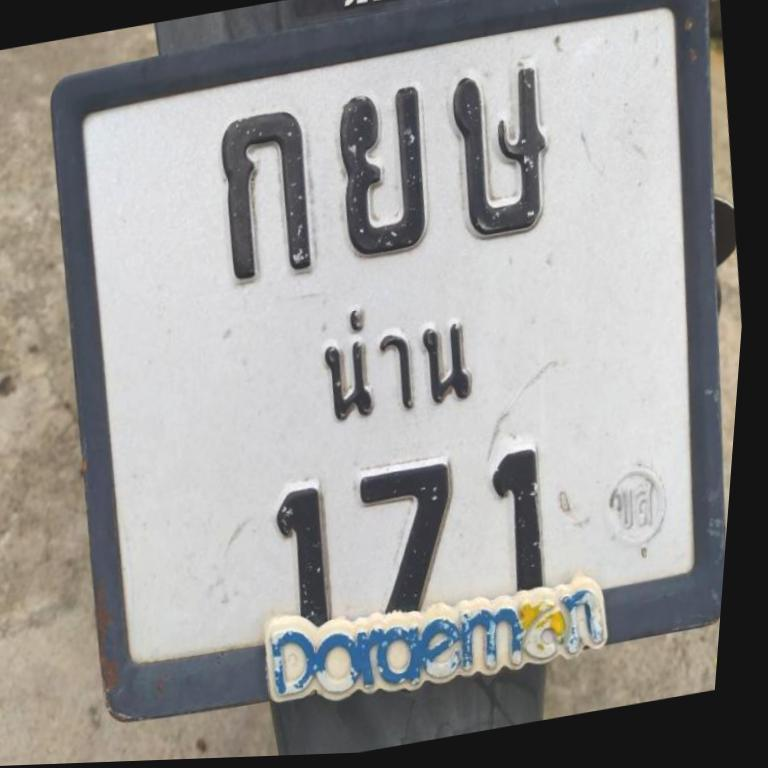license plate: (52, 0, 725, 717)
